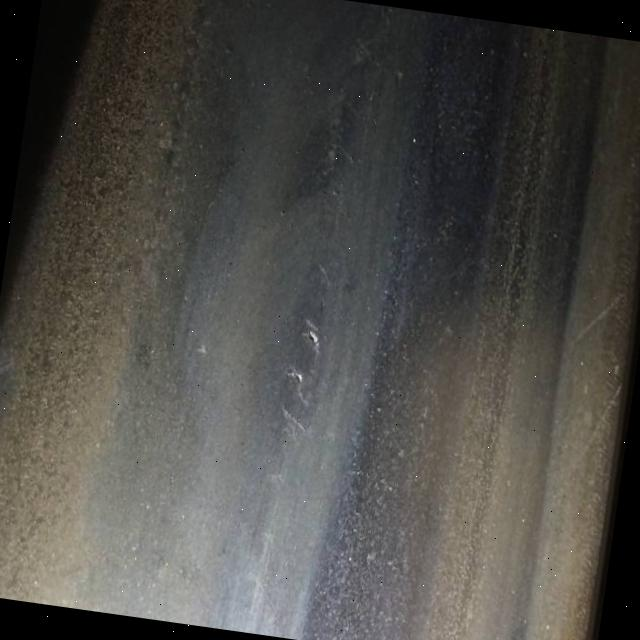Contact_Fatigue_Cracks: (354, 37, 390, 74), (286, 369, 319, 408), (299, 319, 327, 359), (278, 409, 312, 436), (328, 184, 351, 217), (312, 260, 338, 289), (333, 141, 360, 166)
